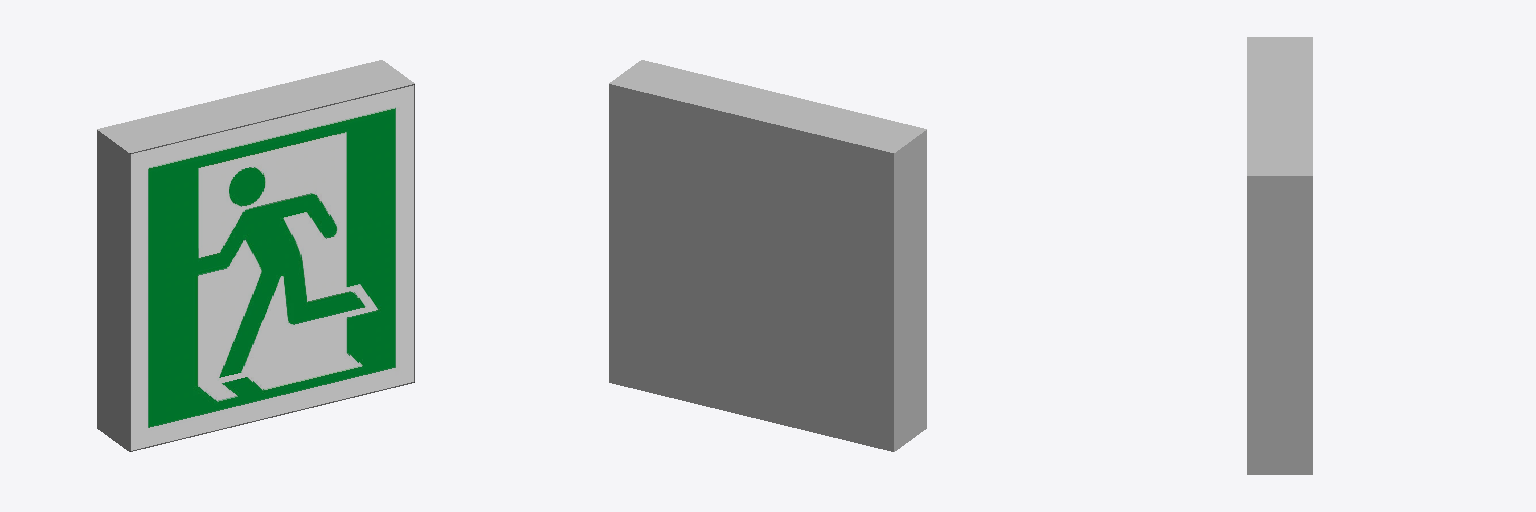
3 renders of one model, left to right at view 1: azimuth 30°, elevation 25°; view 2: azimuth 150°, elevation 25°; view 3: azimuth 270°, elevation 25°, orthographic.
Parts seen in each view (by area): view 1: Cube; view 2: Cube; view 3: Cube.
Part boxes in pixels (left/top/right/bottom): Cube: left=97, top=60, right=414, bottom=451; Cube: left=609, top=60, right=926, bottom=451; Cube: left=1247, top=37, right=1312, bottom=474.
Bounding box in the file's own units: 0.5 × 0.5 × 0.1.
Materials: 2 (1 with a texture image).